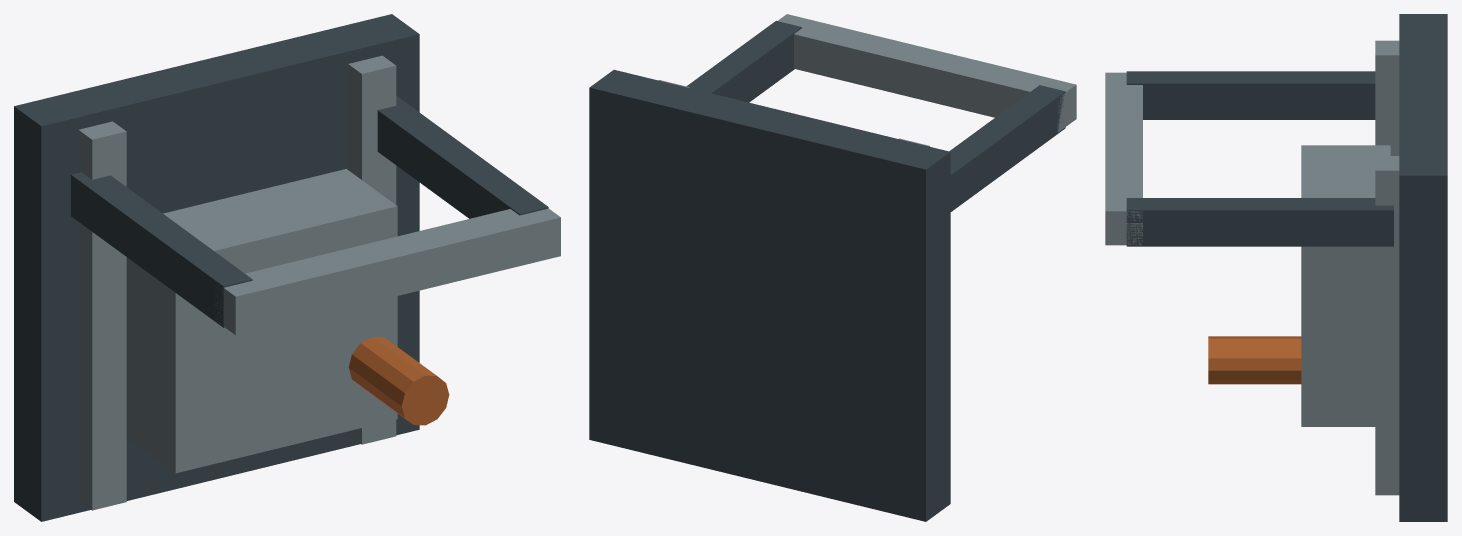
The model's file is tank-assembling-machine.obj.
3 views of the same model, side by side, from view 1: azimuth 30°, elevation 25°; view 2: azimuth 150°, elevation 25°; view 3: azimuth 270°, elevation 25° (orthographic). The views are drawn at different scales.
Visible parts, largest first — view 1: tank-assembling-machine_factory_foundation, tank-assembling-machine_empty_hull_jig, tank-assembling-machine_overhead_gantry, tank-assembling-machine_assembly_rail_0, tank-assembling-machine_gantry_support_0, tank-assembling-machine_gantry_support_1, tank-assembling-machine_assembly_rail_1, tank-assembling-machine_welding_head; view 2: tank-assembling-machine_factory_foundation, tank-assembling-machine_overhead_gantry, tank-assembling-machine_gantry_support_0, tank-assembling-machine_gantry_support_1; view 3: tank-assembling-machine_factory_foundation, tank-assembling-machine_empty_hull_jig, tank-assembling-machine_gantry_support_1, tank-assembling-machine_gantry_support_0, tank-assembling-machine_assembly_rail_1, tank-assembling-machine_overhead_gantry, tank-assembling-machine_welding_head, tank-assembling-machine_assembly_rail_0.
Boxes of the visible parts, x1,y1,x2,y2 form: tank-assembling-machine_factory_foundation: [14, 14, 419, 521]; tank-assembling-machine_empty_hull_jig: [126, 169, 397, 473]; tank-assembling-machine_overhead_gantry: [214, 208, 560, 335]; tank-assembling-machine_assembly_rail_0: [78, 121, 126, 510]; tank-assembling-machine_gantry_support_0: [71, 172, 252, 327]; tank-assembling-machine_gantry_support_1: [377, 96, 548, 218]; tank-assembling-machine_assembly_rail_1: [348, 55, 396, 444]; tank-assembling-machine_welding_head: [348, 337, 449, 425]; tank-assembling-machine_factory_foundation: [589, 69, 950, 521]; tank-assembling-machine_overhead_gantry: [778, 14, 1076, 132]; tank-assembling-machine_gantry_support_0: [949, 85, 1065, 211]; tank-assembling-machine_gantry_support_1: [686, 20, 801, 102]; tank-assembling-machine_factory_foundation: [1399, 14, 1447, 521]; tank-assembling-machine_empty_hull_jig: [1301, 145, 1390, 426]; tank-assembling-machine_gantry_support_1: [1126, 198, 1393, 246]; tank-assembling-machine_gantry_support_0: [1126, 71, 1375, 119]; tank-assembling-machine_assembly_rail_1: [1375, 156, 1399, 495]; tank-assembling-machine_overhead_gantry: [1105, 72, 1142, 245]; tank-assembling-machine_welding_head: [1208, 336, 1301, 384]; tank-assembling-machine_assembly_rail_0: [1375, 40, 1399, 155].
Bounding box in the file's own units: 2.86 × 2.86 × 2.56.
